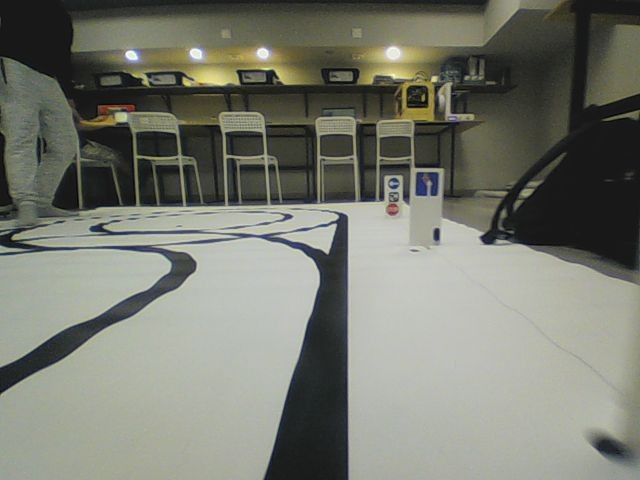priority_movement: (414, 170, 439, 198)
